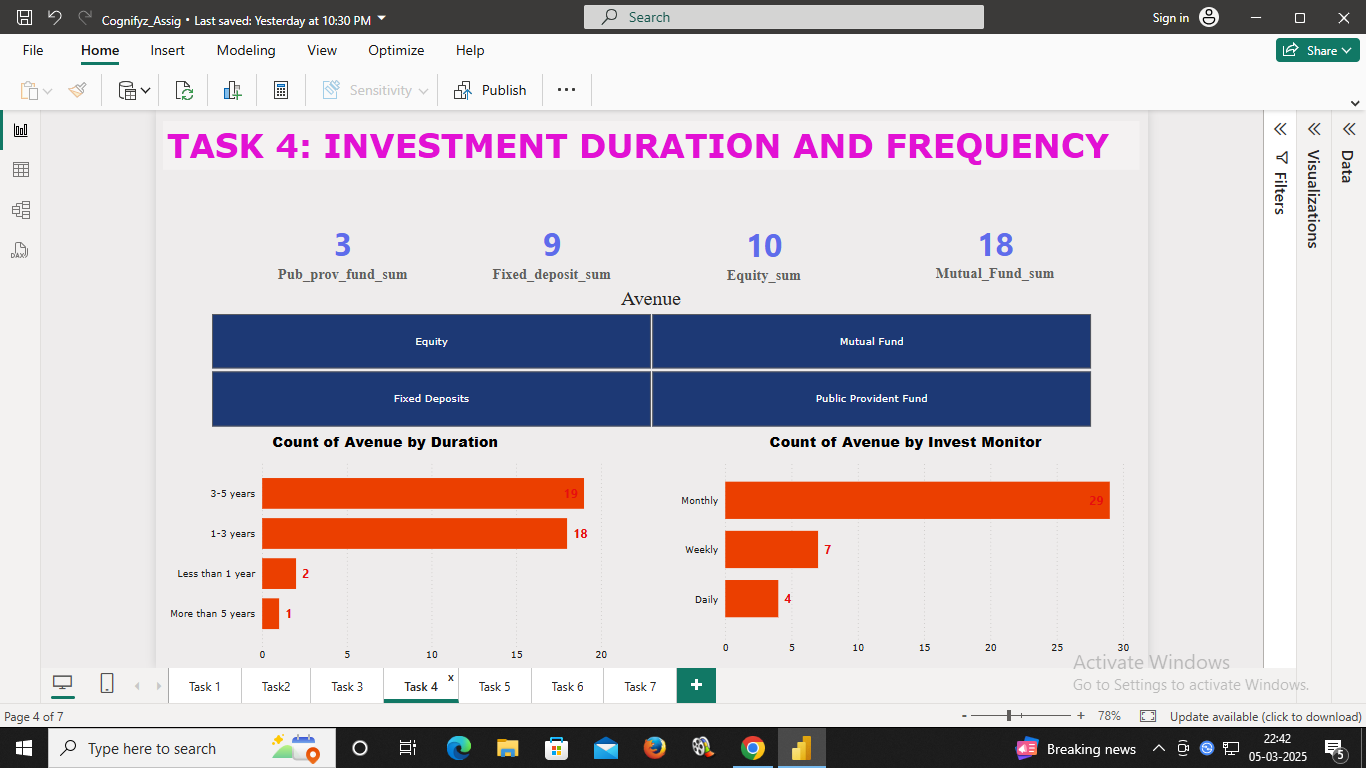

Layout of this report page (visuals, bound fields, positions):
{"tool":"powerbi","page":{"name":"Task 4","canvas":[1280,720],"ordinal":3},"visuals":[{"type":"textbox","box":[9.6,13.7,1259.7,63.1],"z":0},{"type":"clusteredBarChart","fields":{"Category":["Data_set 2.Duration"],"Y":["CountNonNull(Data_set 2.Avenue)"]},"box":[0,414.4,591.4,306],"z":1000},{"type":"clusteredBarChart","title":"Count of Avenue by Invest Monitor","fields":{"Y":["CountNonNull(Data_set 2.Avenue)"],"Category":["Data_set 2.Invest_Monitor"]},"box":[664.2,414.4,605.1,296.4],"z":2000},{"type":"slicer","title":"Avenue","fields":{"Values":["Data_set 2.Avenue"]},"box":[46.7,227.8,1184.2,186.6],"z":3000},{"type":"card","fields":{"Values":["Data_set 2.Fixed_deposit_sum"]},"box":[395.2,120.8,231.9,122.1],"z":4000},{"type":"card","fields":{"Values":["Data_set 2.Pub_prov_fund_sum"]},"box":[133.1,126.2,216.8,112.5],"z":5000},{"type":"card","fields":{"Values":["Data_set 2.Mutual_Fund_sum"]},"box":[967.4,124.9,230.5,113.9],"z":6000},{"type":"card","fields":{"Values":["Data_set 2.Euity_sum"]},"box":[664.2,122.1,240.1,122.1],"z":7000}]}

Visuals, with their boxes on the page's 1280x720 design canvas (x1, y1, x2, y2). These are canvas units, not pixel positions in the 1366x768 screenshot, which may show the page scaled, cropped or inside an application window:
textbox: (left=10, top=14, right=1269, bottom=77)
clusteredBarChart - Data_set 2.Duration x CountNonNull(Data_set 2.Avenue): (left=0, top=414, right=591, bottom=720)
"Count of Avenue by Invest Monitor" clusteredBarChart: (left=664, top=414, right=1269, bottom=711)
"Avenue" slicer: (left=47, top=228, right=1231, bottom=414)
card - Data_set 2.Fixed_deposit_sum: (left=395, top=121, right=627, bottom=243)
card - Data_set 2.Pub_prov_fund_sum: (left=133, top=126, right=350, bottom=239)
card - Data_set 2.Mutual_Fund_sum: (left=967, top=125, right=1198, bottom=239)
card - Data_set 2.Euity_sum: (left=664, top=122, right=904, bottom=244)
